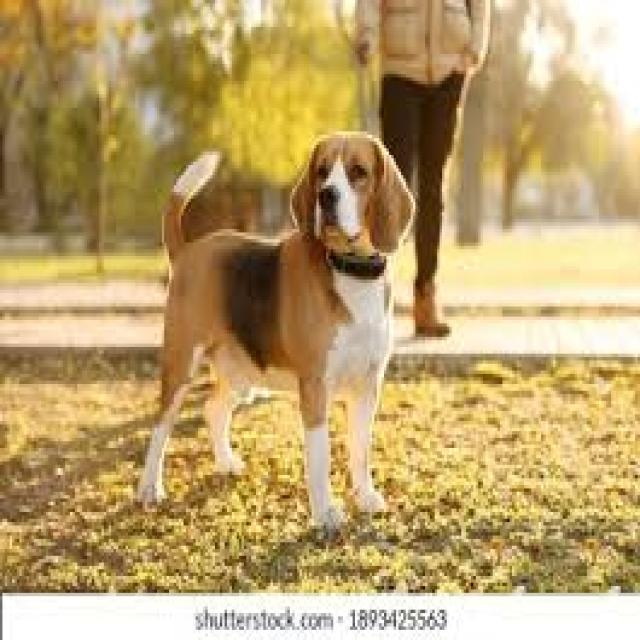Dog: (136, 128, 420, 528)
